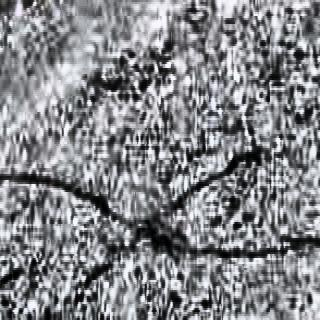alligator-crack: (1, 144, 319, 309)
